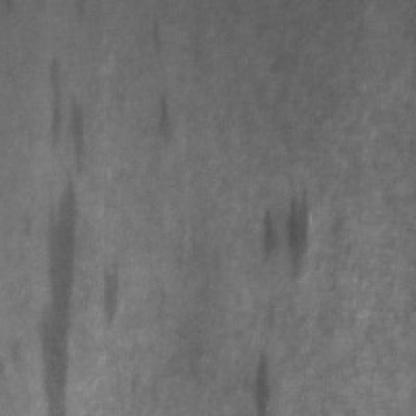inclusion: (31, 158, 79, 410), (254, 181, 310, 281), (42, 50, 85, 175), (239, 337, 277, 414), (94, 256, 124, 328), (144, 85, 176, 152)
